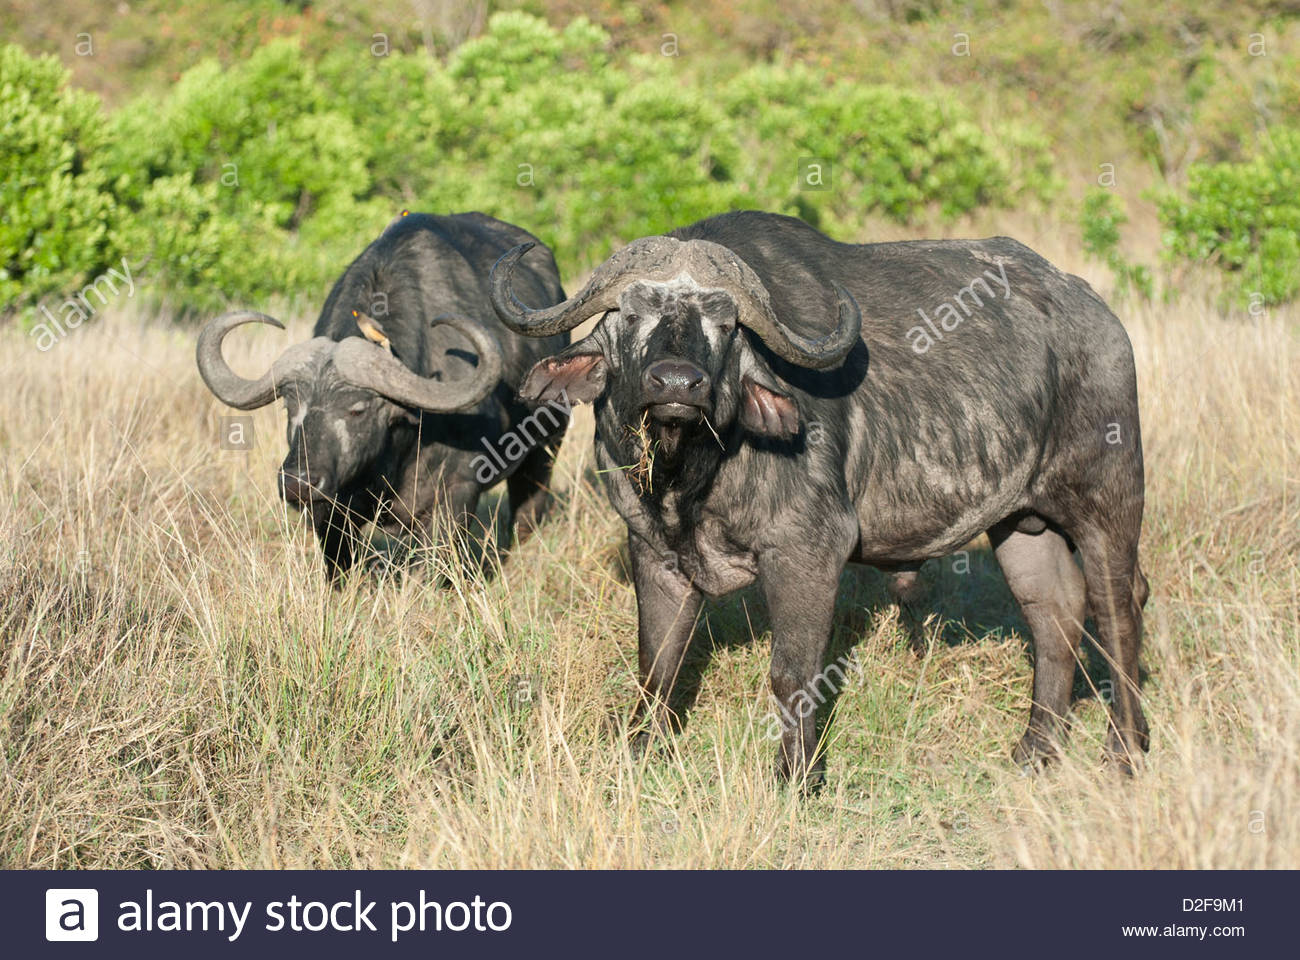bison: (504, 208, 1167, 769), (196, 193, 565, 586)
